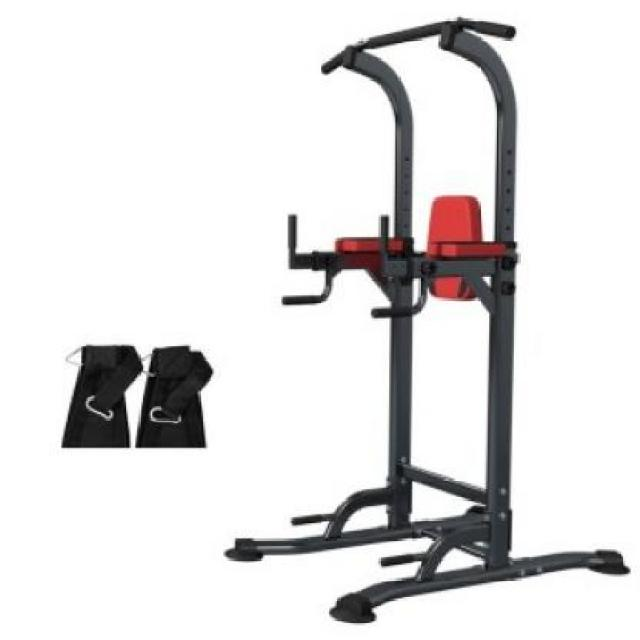chinning dipping: (228, 14, 630, 623)
